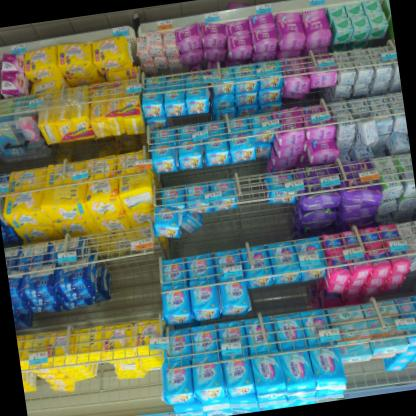empty_space: (103, 249, 161, 314), (236, 172, 270, 243)
